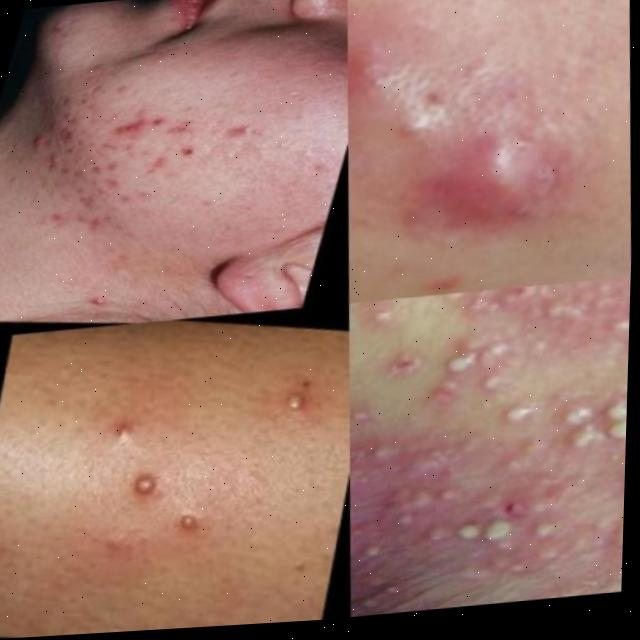Acne: (405, 336, 629, 570), (396, 22, 577, 231), (102, 66, 276, 228), (132, 389, 267, 584)
